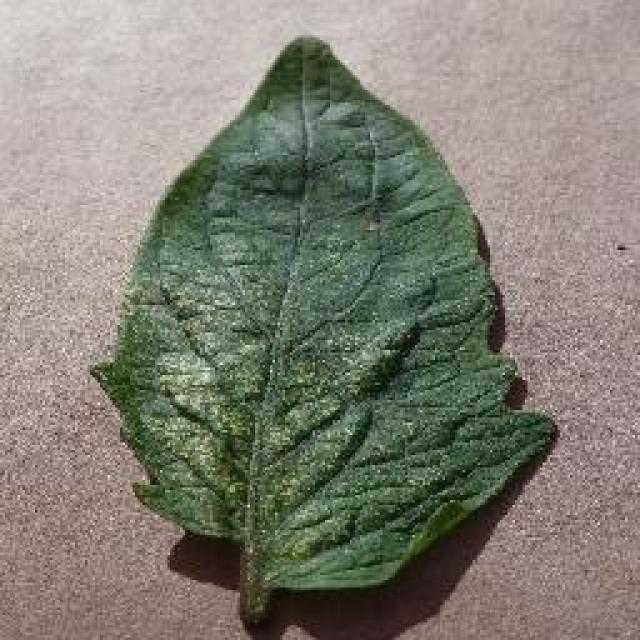Tom_Spider_mites Two-spotted_spider_mite: (137, 254, 405, 545)
